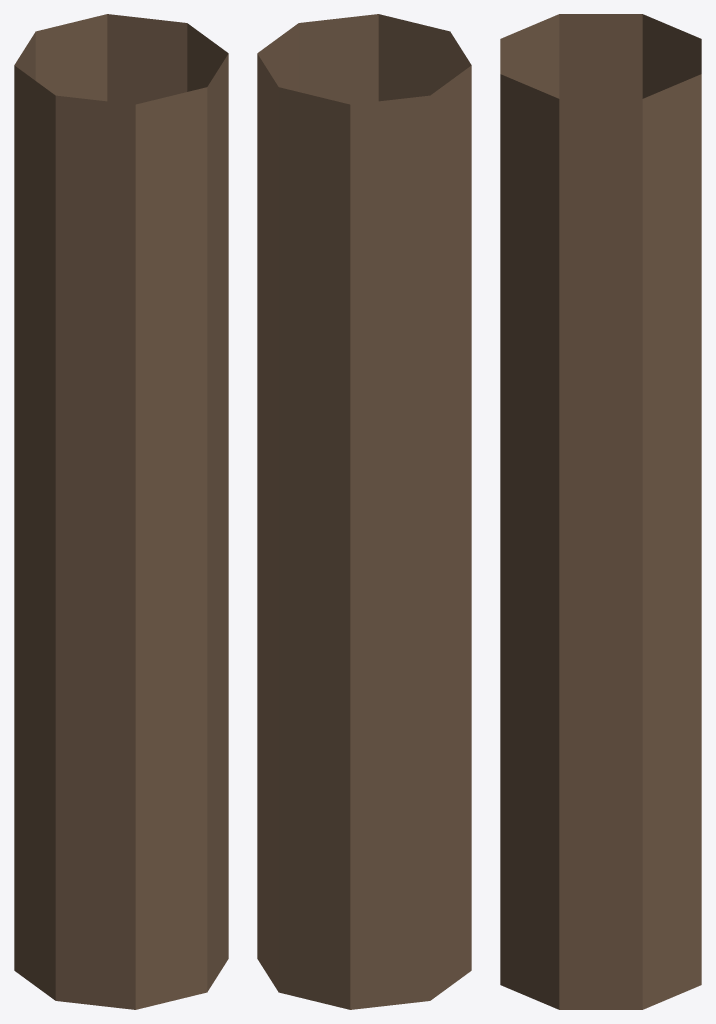
File: Hilly_Prop_Bridge_Log_Post_Support.obj
3 views of the same model, side by side, from view 1: azimuth 30°, elevation 25°; view 2: azimuth 150°, elevation 25°; view 3: azimuth 270°, elevation 25° (orthographic).
Visible parts, largest first — view 1: object1; view 2: object1; view 3: object1.
Boxes of the visible parts, <box> form: object1: <box>14,14,228,1009</box>; object1: <box>257,14,471,1009</box>; object1: <box>500,14,701,1009</box>.
Size of the model in its own units: 0.2 by 1 by 0.2.
